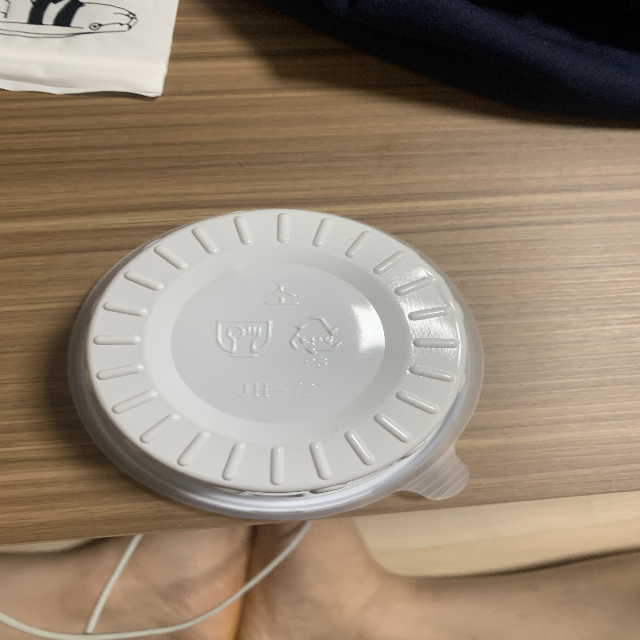ps: (290, 315, 344, 375)
